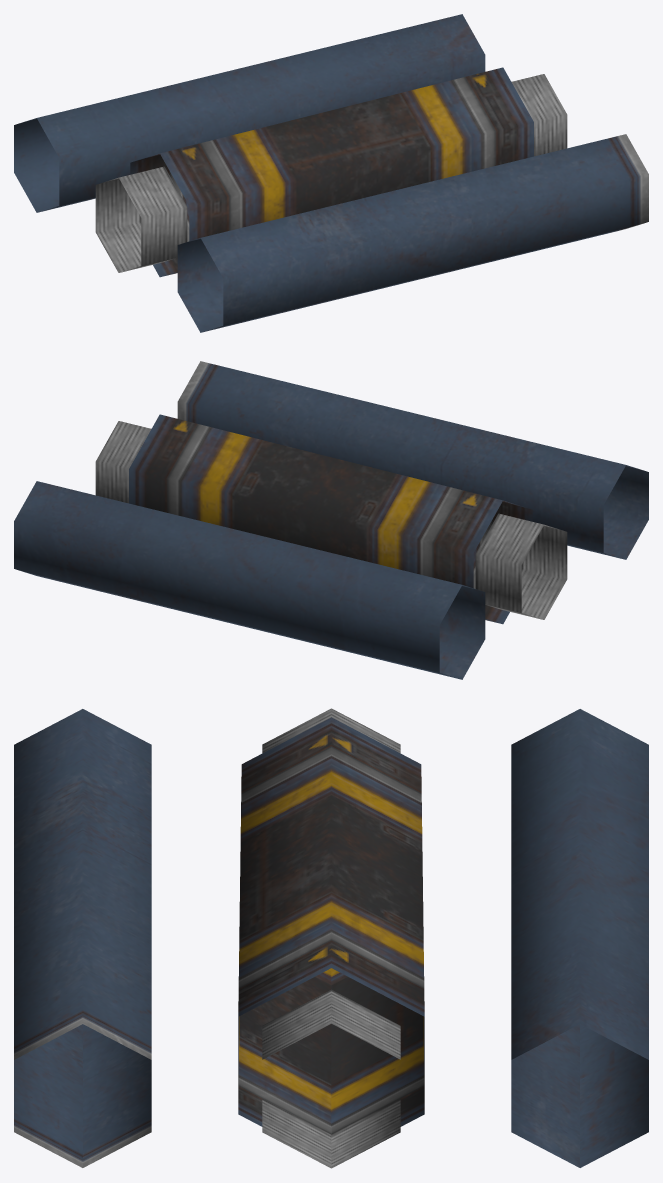
File: PIpe3_Small_L2.fbx
The picture shows the model from 3 angles, top to bottom: view 1: azimuth 30°, elevation 25°; view 2: azimuth 150°, elevation 25°; view 3: azimuth 270°, elevation 25°; orthographic projection. The views are drawn at different scales.
Visible parts, largest first — view 1: PIpe3_Small_L2; view 2: PIpe3_Small_L2; view 3: PIpe3_Small_L2.
Boxes of the visible parts, x1,y1,x2,y2 form: PIpe3_Small_L2: (14,14,648,332); PIpe3_Small_L2: (14,361,648,679); PIpe3_Small_L2: (14,708,648,1168).
Bounding box in the file's own units: 50 × 14.43 × 42.56.
